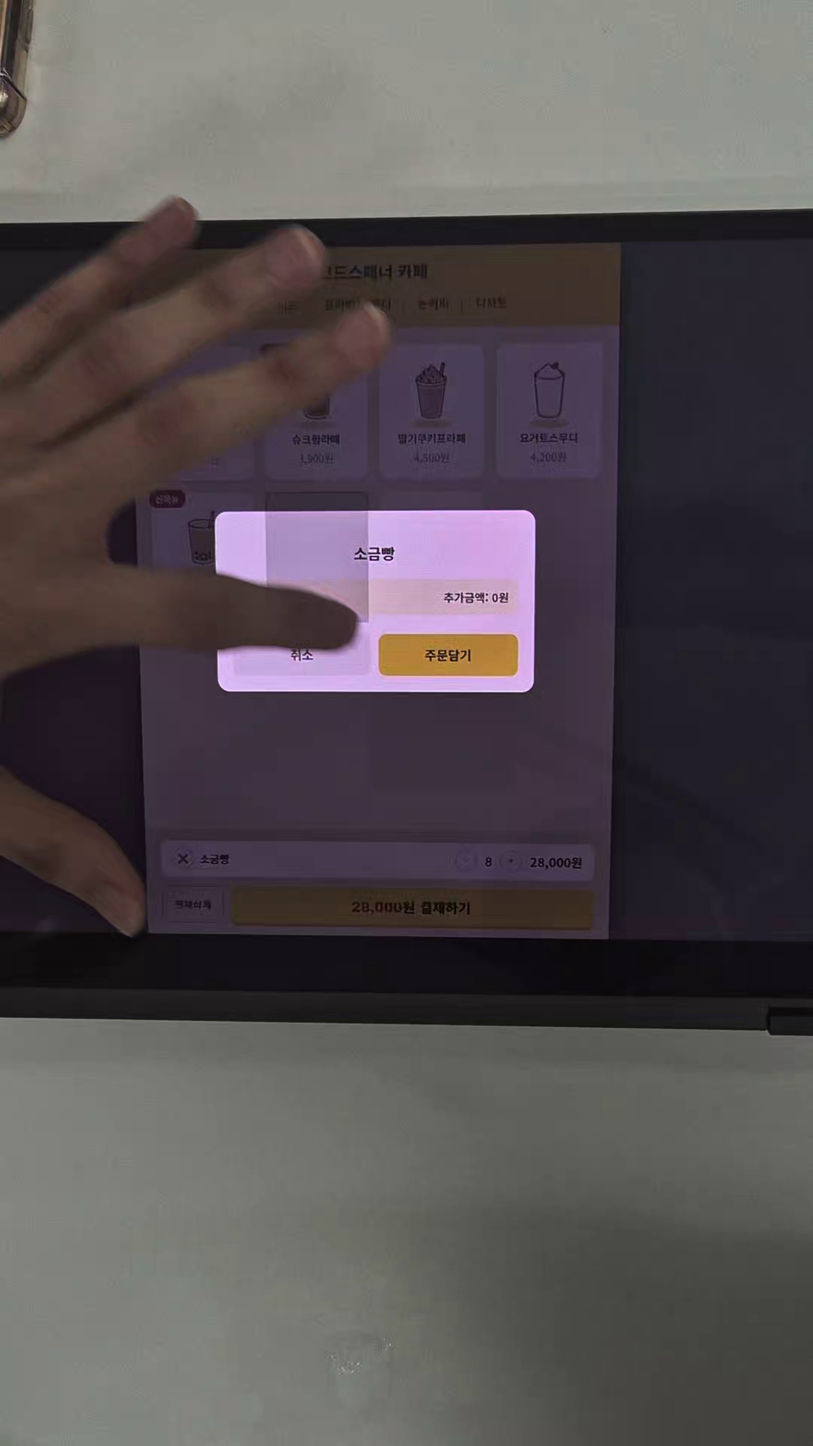action_button: (233, 634, 372, 682), (381, 634, 518, 679)
popup_modal: (213, 515, 535, 695)
